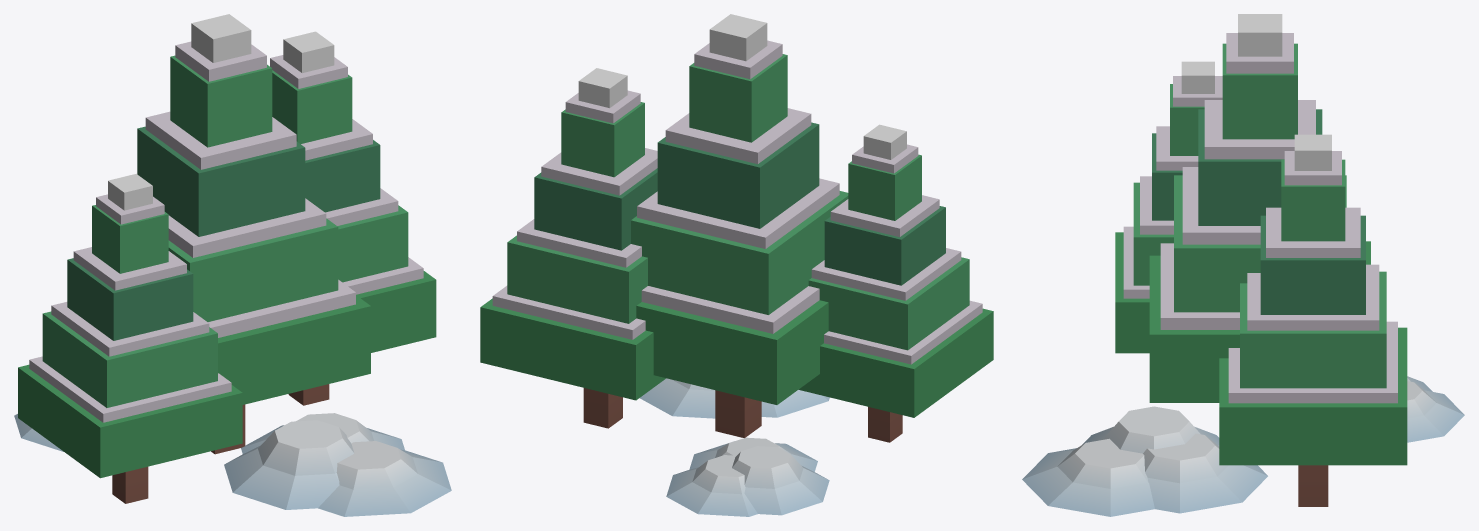
File: snowcap-pines.glb
The picture shows the model from 3 angles, left to right: view 1: azimuth 30°, elevation 25°; view 2: azimuth 150°, elevation 25°; view 3: azimuth 270°, elevation 25°; orthographic projection. The views are drawn at different scales.
Visible parts, largest first — view 1: snowcap-pines_body; view 2: snowcap-pines_body; view 3: snowcap-pines_body.
Part boxes in pixels (x1=…): snowcap-pines_body: x1=14, y1=14, x2=451, y2=516; snowcap-pines_body: x1=480, y1=14, x2=993, y2=516; snowcap-pines_body: x1=1022, y1=14, x2=1464, y2=516.
Size of the model in its own units: 10.2 by 10.5 by 10.01.
